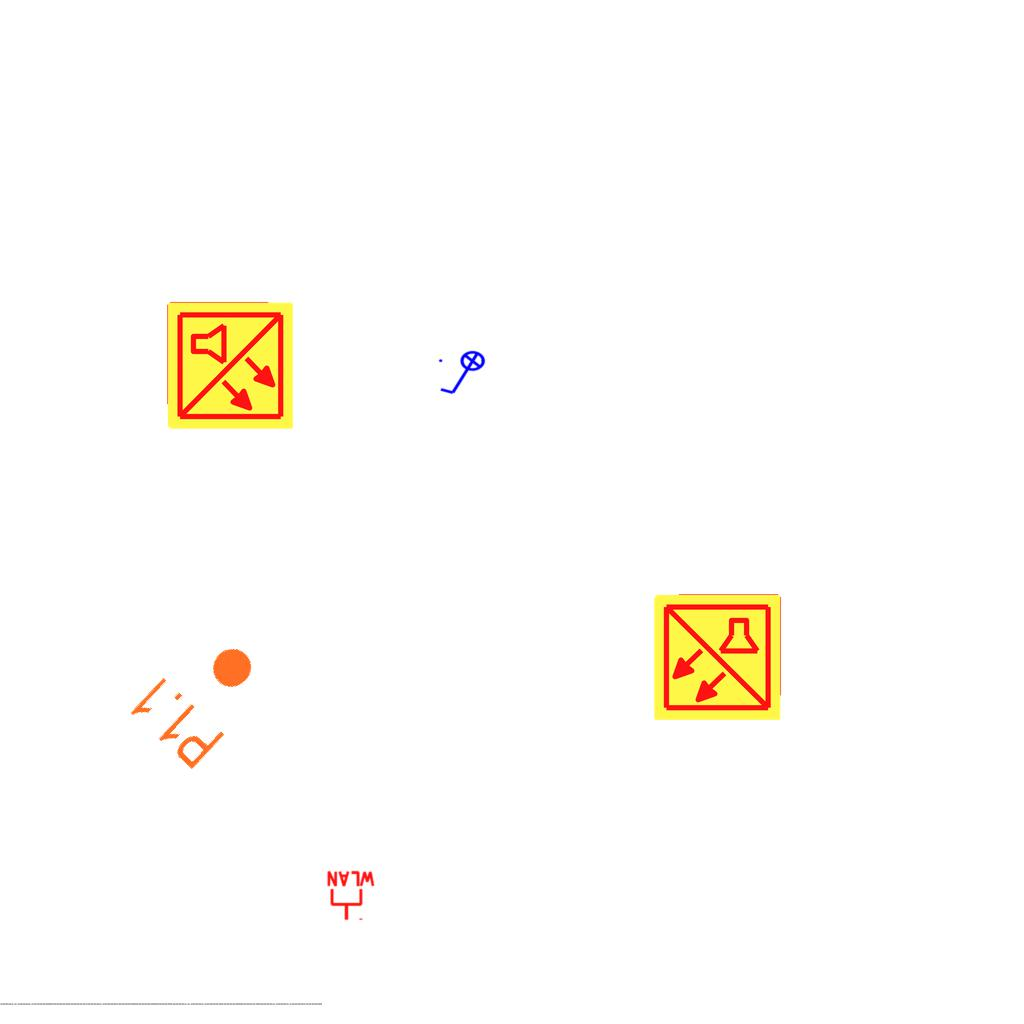Ausschalter_beleuchtet: (436, 350, 492, 398)
Downlight_LED_Einbauleuchten_Flur: (123, 617, 280, 775)
OKW_Multisensormelder_(Kombination_optischer_Rauch-Kahlenmonoxid_Waerme-Melder): (651, 591, 783, 723), (164, 300, 296, 432)
WLAN: (325, 870, 377, 922)
